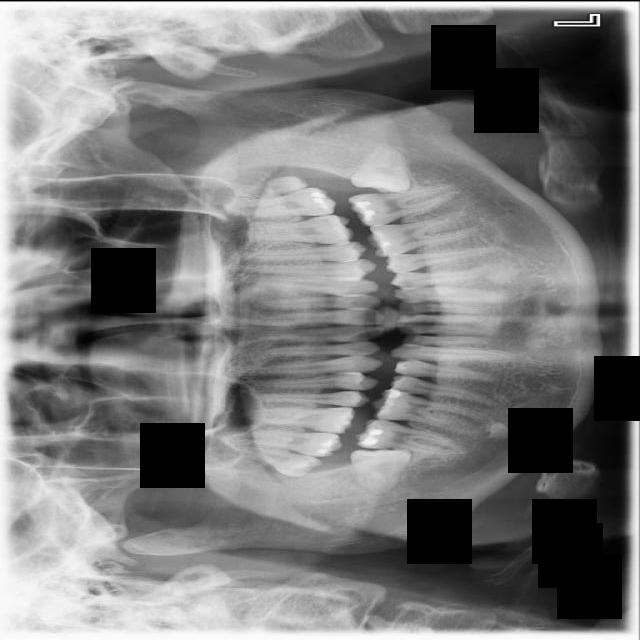3M ESPE Implant: (226, 439, 323, 481)
52: (346, 181, 398, 235), (352, 415, 404, 453), (376, 385, 420, 428), (370, 221, 416, 257), (285, 186, 337, 215), (296, 430, 344, 457)
73: (556, 18, 568, 25)
BioHorizons Implant: (223, 185, 337, 219)
BioLife Implant: (231, 171, 310, 204)
Biomet 3i Implant: (351, 145, 411, 192)
Blue Sky Bio Implant: (347, 183, 459, 229)
Caries: (219, 424, 343, 457)
Implant: (353, 415, 465, 457)
Keystone Dental Implant: (350, 447, 413, 495)
